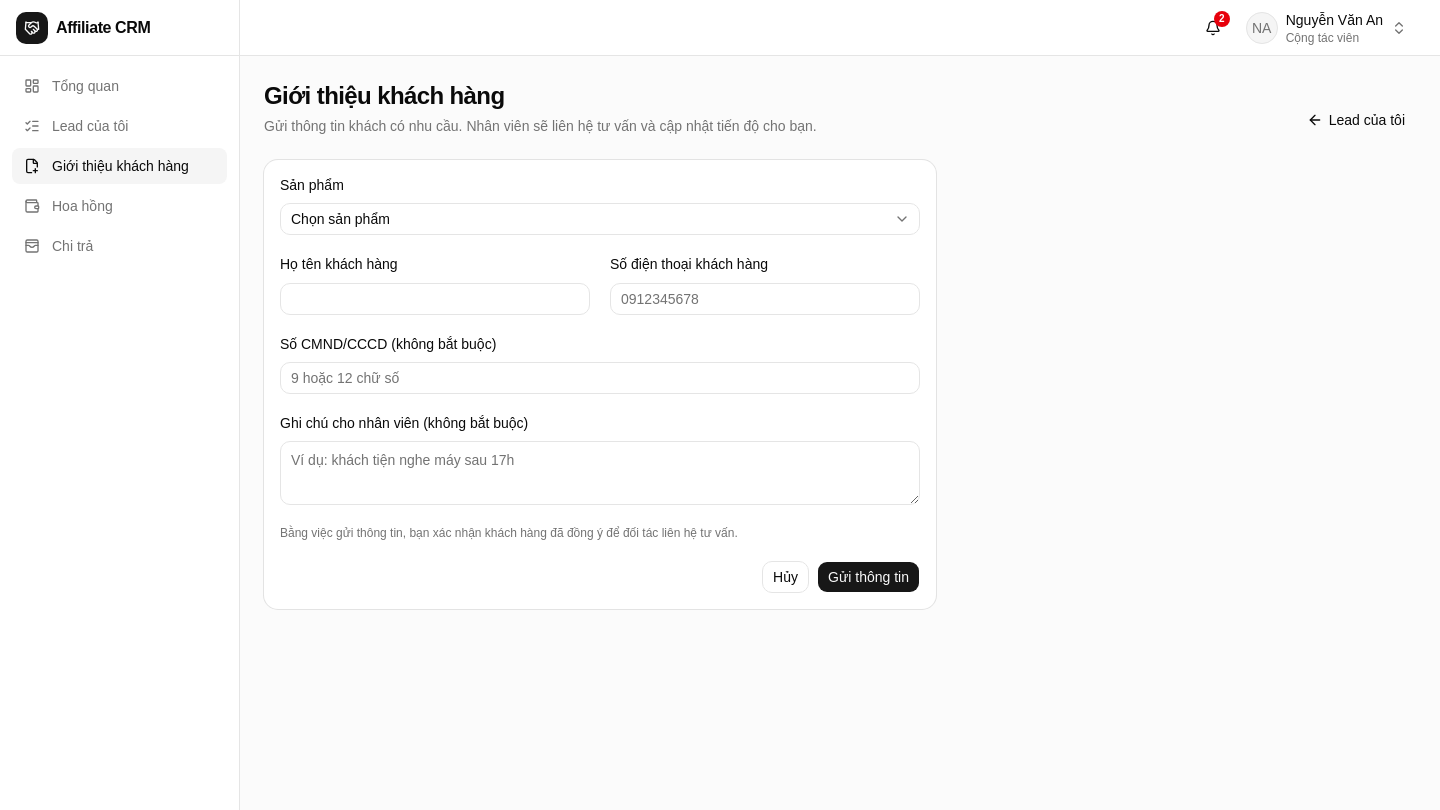
Test case: LeadCreatePage › validates the form before sending
This screenshot has width=1440, height=810.
Check: the heading "Giới thiệu khách hàng" is shown, box [264,82,504,109]
Check: the dropdown labelled "Sản phẩm" is shown, box [280,203,920,235]
Click the button "Gửi thông tin" at (868, 577), box [817,561,920,593]
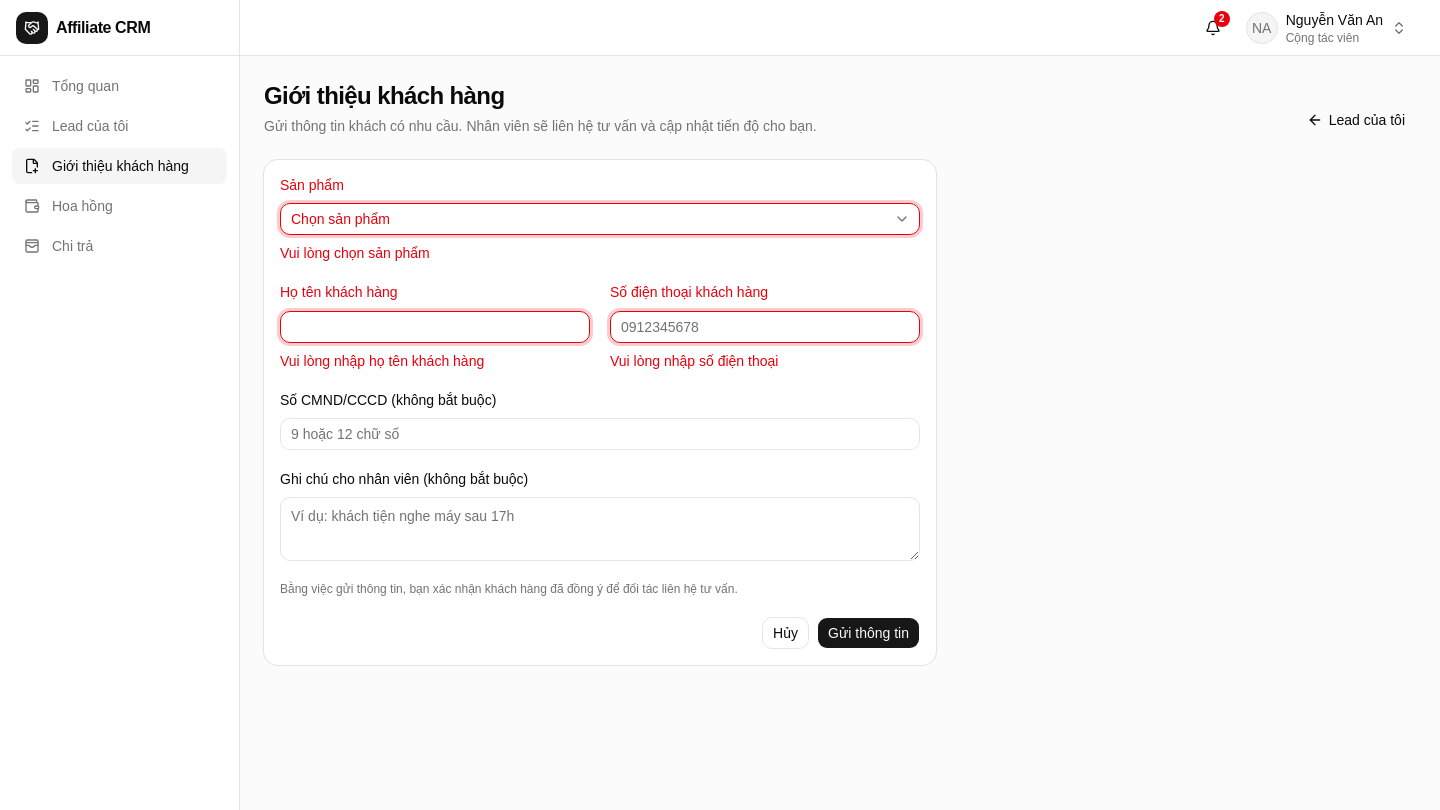
Check: the text "Vui lòng chọn sản phẩm" is shown, box [280,245,430,261]
Check: the text "Vui lòng nhập họ tên khách hàng" is shown, box [280,352,484,368]
Check: the text "Vui lòng nhập số điện thoại" is shown, box [610,352,778,368]
